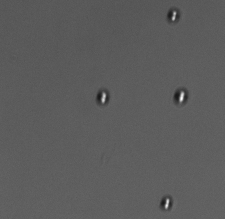Living Cell: (172, 86, 189, 106), (95, 88, 111, 107), (159, 194, 175, 211), (166, 7, 181, 24)
